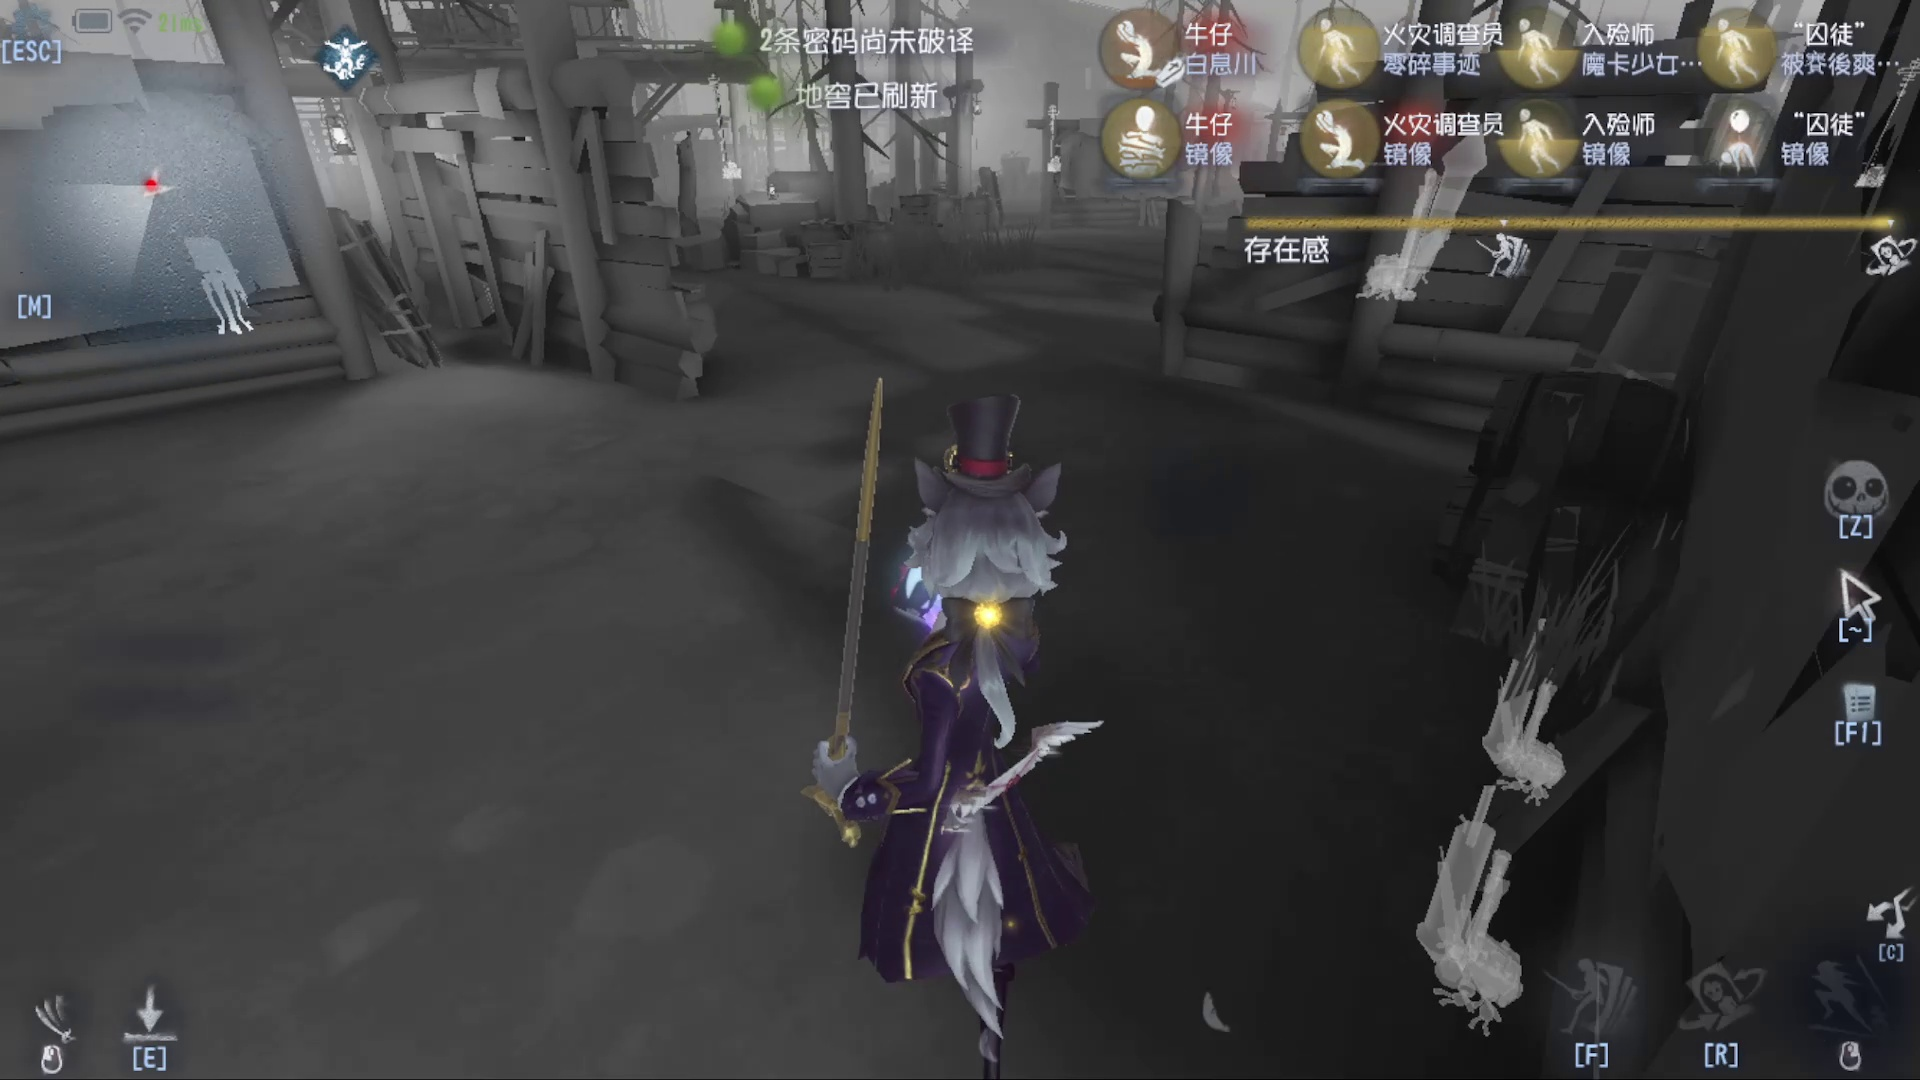狂欢之椅: (1410, 804, 1563, 1022), (1476, 622, 1615, 828), (1349, 127, 1493, 319)
